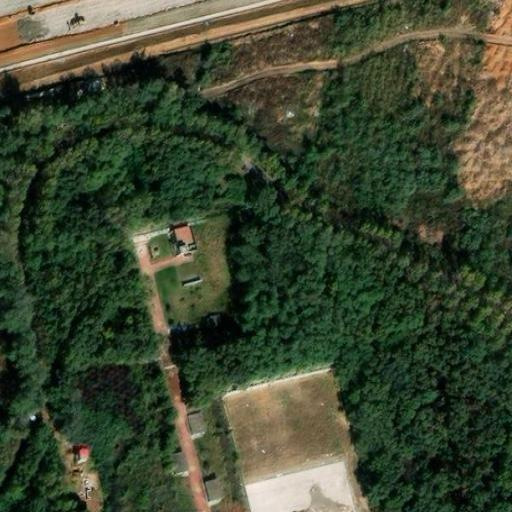building: (183, 405, 208, 436), (201, 471, 226, 501), (175, 224, 197, 252), (169, 445, 191, 473), (72, 441, 90, 459)
